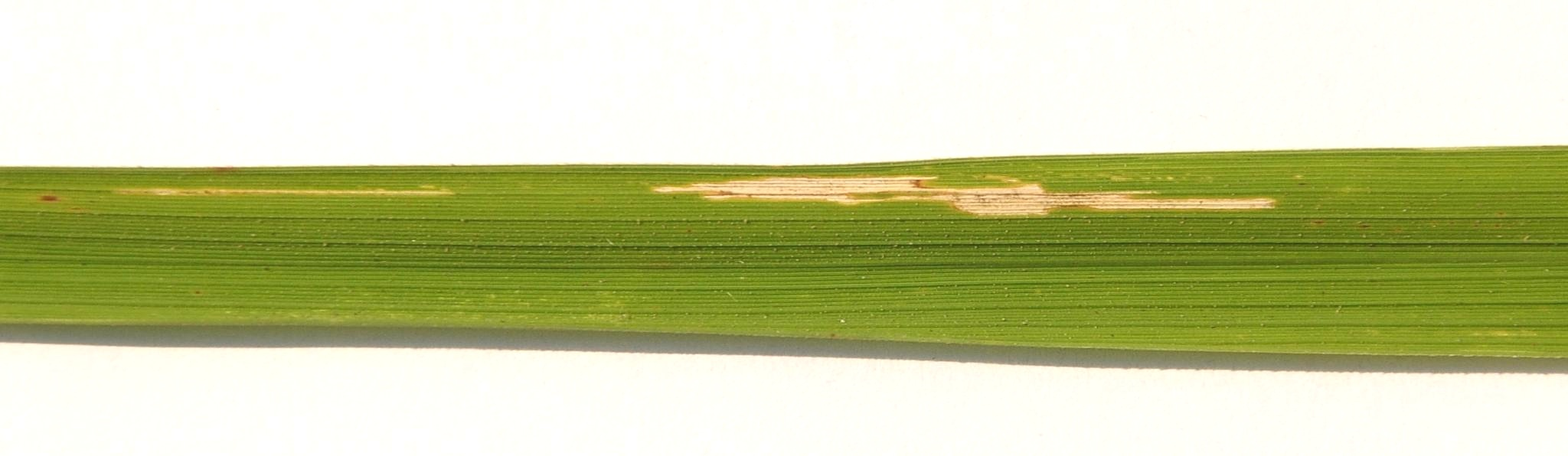Leaf_Blast: (90, 145, 1335, 263)
